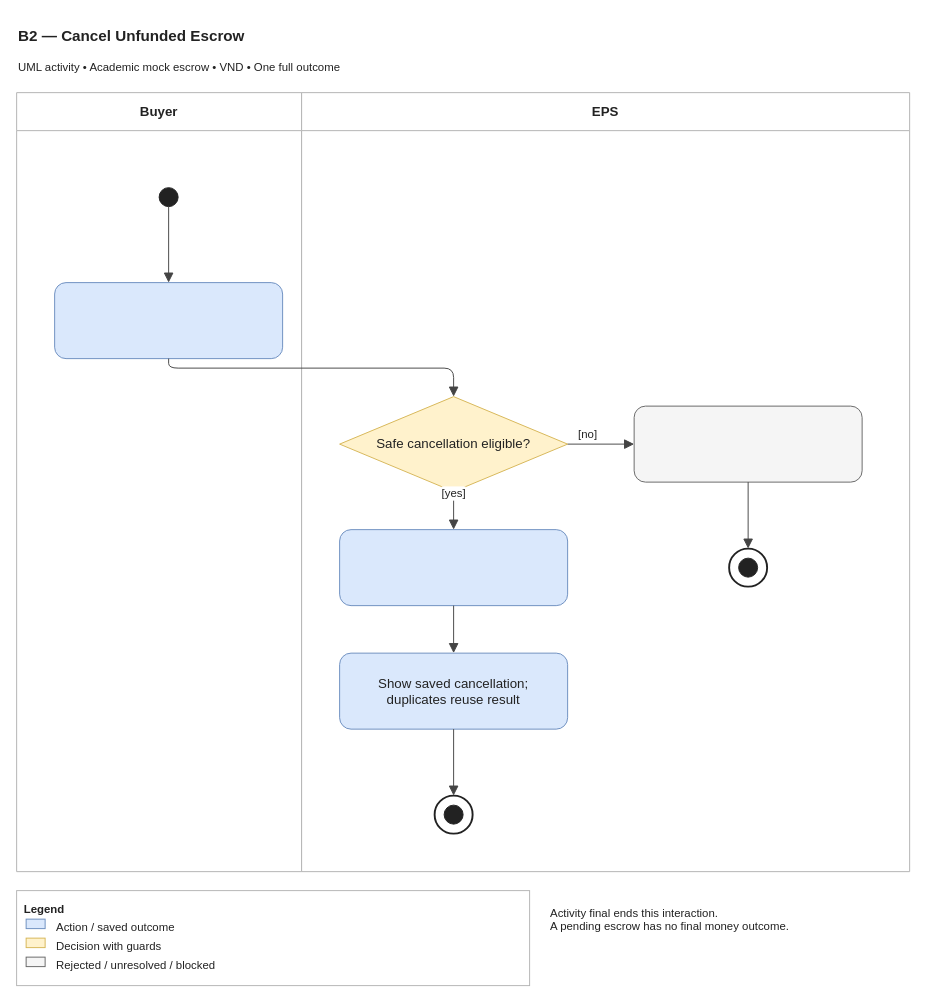
Image size: 926x1002. Some labels were removed from this diagram. Each missing label, with the centre of its shape:
Reject stale / unknown funding; keep money state: (x=747, y=443)
Request unfunded cancellation: (x=168, y=320)
Set CANCELLED atomically; block funding; audit: (x=453, y=567)
